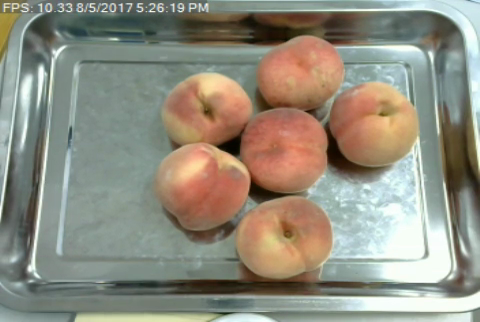Peach: (156, 142, 251, 232), (233, 197, 333, 280), (327, 80, 420, 168), (239, 106, 328, 190), (161, 70, 252, 146), (253, 35, 344, 109)
